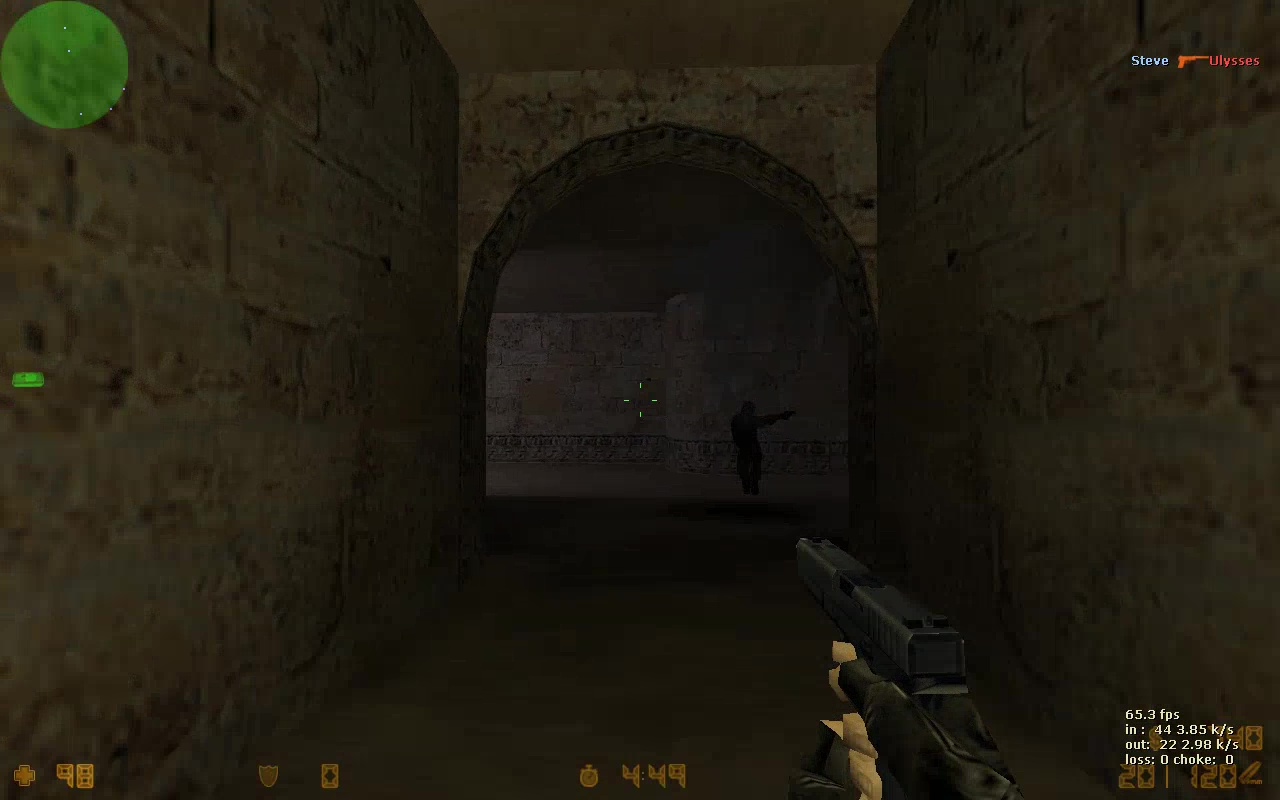terr1: (723, 399, 796, 499)
